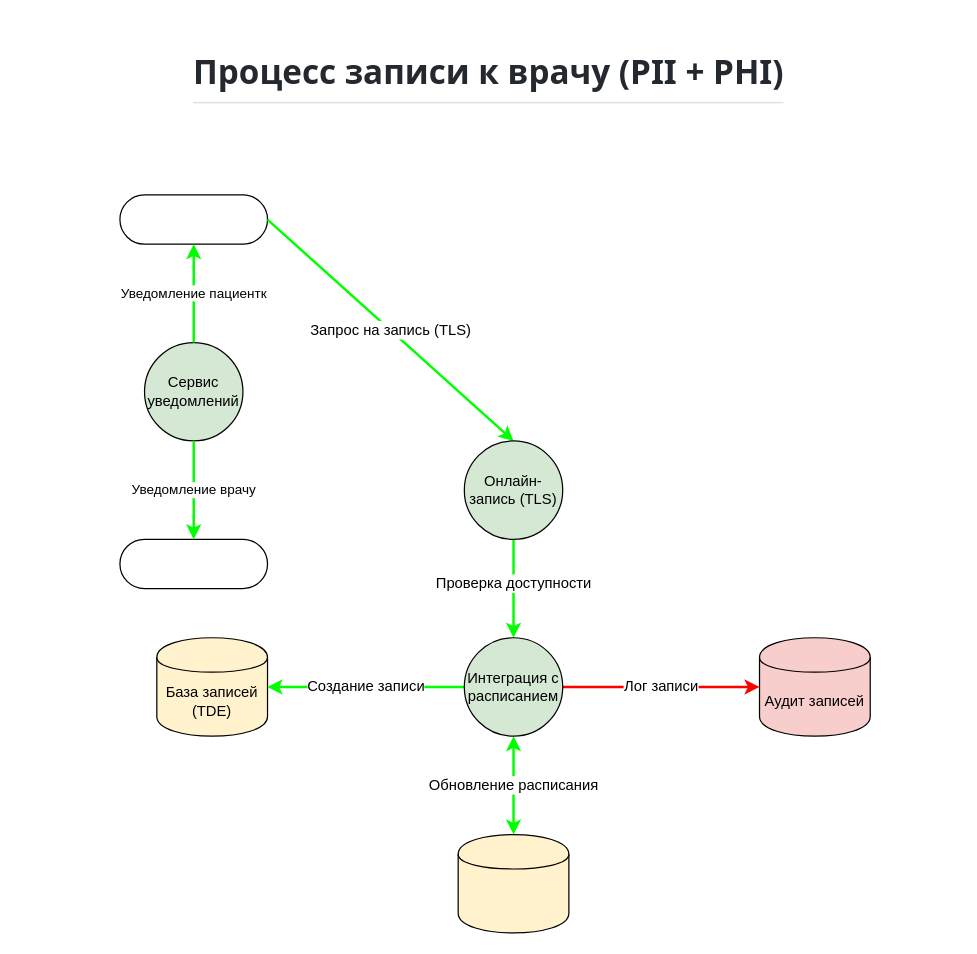
The diagram is 977 pixels wide and 954 high, and some of its shapes have lost their labels. Here are the shapes that lost their labels. From the top down, the box of each, then its label:
(119, 194, 268, 244): Пациент (портал)
(119, 538, 268, 589): Врач
(457, 833, 569, 933): Расписание врачей
